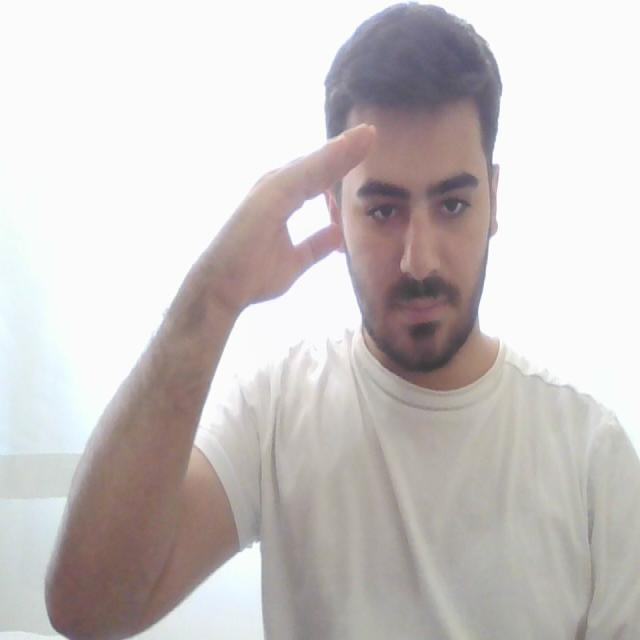Merhaba: (208, 70, 397, 365)
